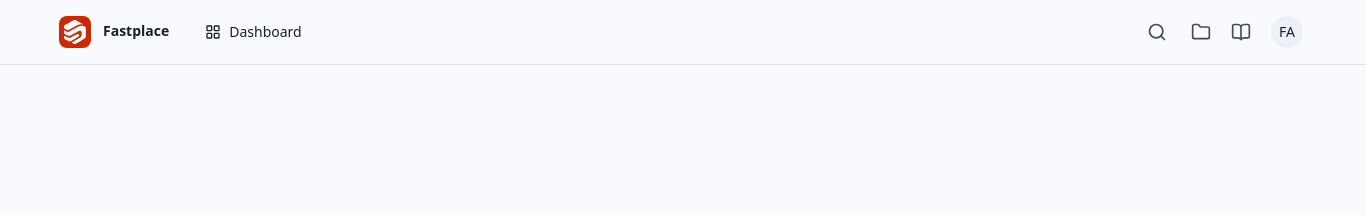
Test: AppHeader › opens the user menu from the avatar with account actions
Click the button "FA" at point(1287, 32), box [1267,12,1307,52]
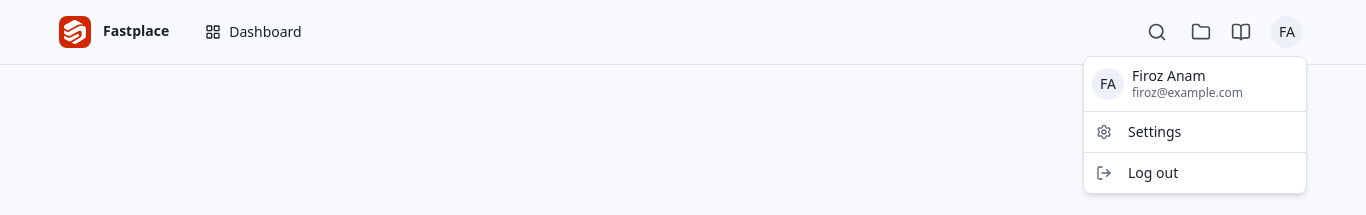
Now the menu shows "Firoz Anam", box [1132,66,1206,85]
Now the menu shows "firoz@example.com", box [1132,84,1243,100]
